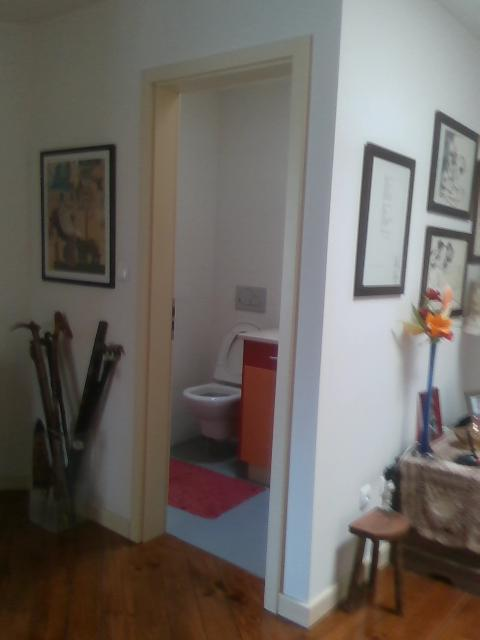open_door: (135, 29, 311, 633)
